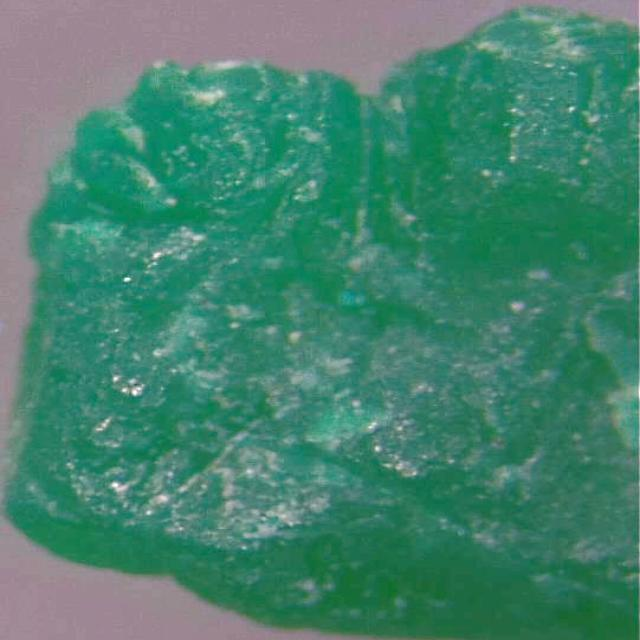microplastic: (1, 4, 640, 640)
